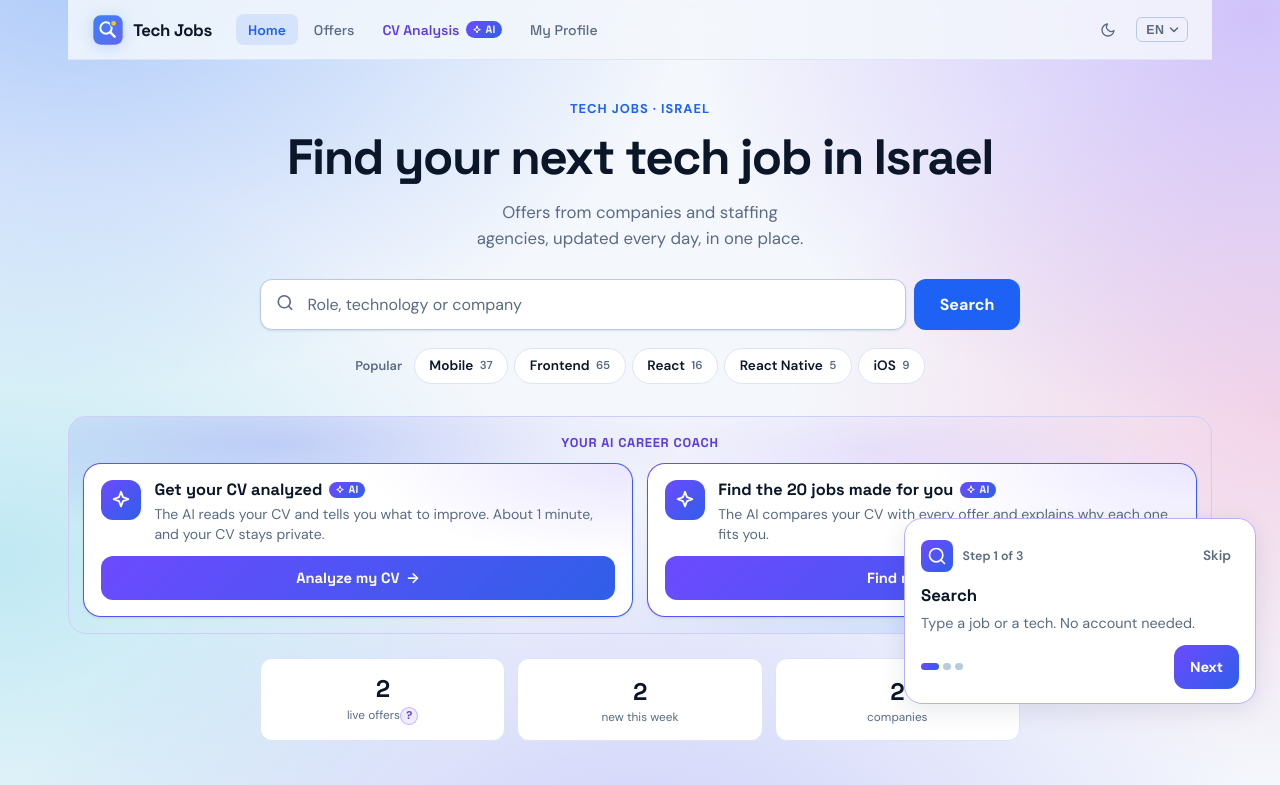
Autocomplete on the home page (integration) › suggests technologies while typing, with counts
Step 1. Type "re" into the dropdown named "Search offers" → (583, 305), box [260, 279, 906, 330]
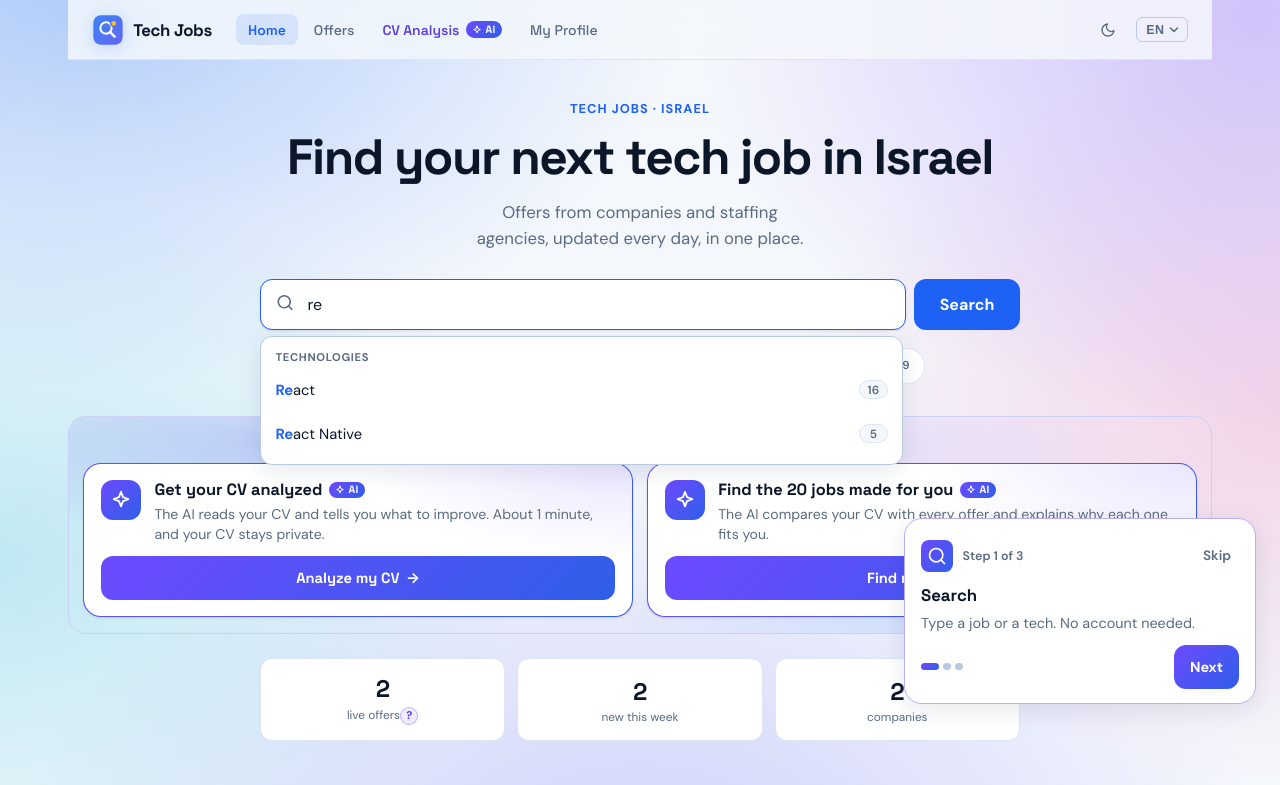
Now the option named "React16" is shown, box [275, 380, 888, 400]
